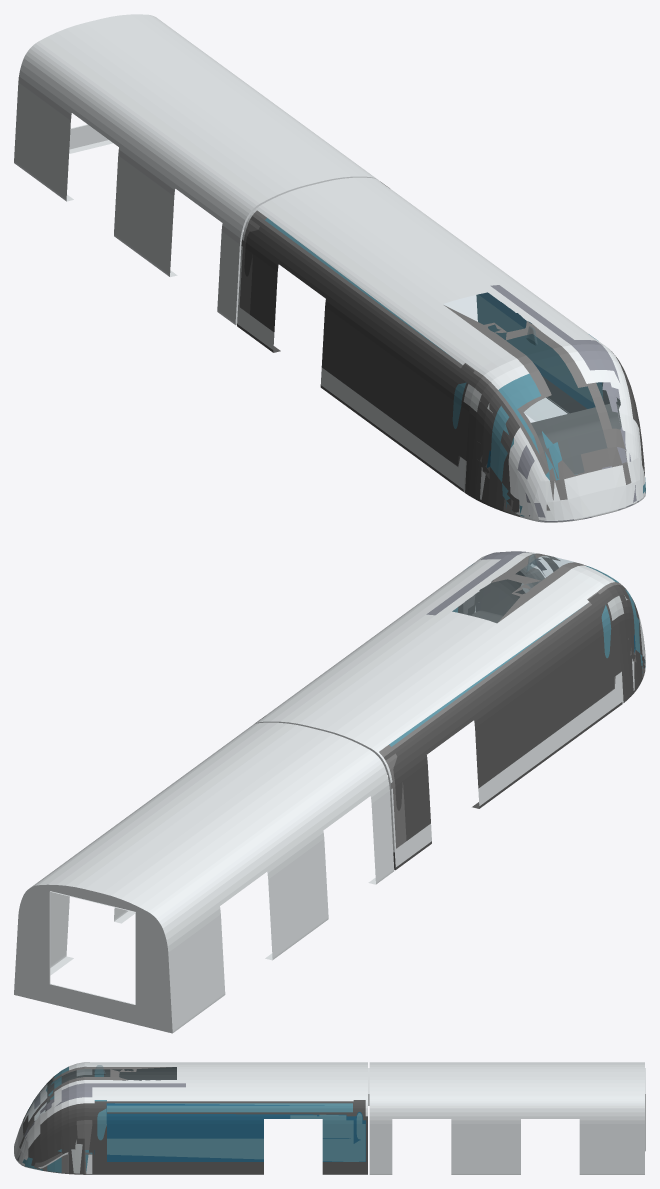
Rendered from shanghai-maglev-body.glb.
3 views of the same model, one above another, from view 1: azimuth 30°, elevation 25°; view 2: azimuth 150°, elevation 25°; view 3: azimuth 270°, elevation 25° (orthographic). The views are drawn at different scales.
Parts seen in each view (by area): view 1: Shanghai maglev / Mesh07 / Color_00, Shanghai maglev / Mesh07 / Color_02, Shanghai maglev / Mesh07 / Transluc, Shanghai maglev / Mesh07 / Color_01, Shanghai maglev / Mesh07 / 0082_Lig, Shanghai maglev / Mesh07 / FrontCol, Shanghai maglev / Mesh07 / _CoolGra, Shanghai maglev / Mesh07 / 0039_Dar; view 2: Shanghai maglev / Mesh07 / Color_00, Shanghai maglev / Mesh07 / Color_02, Shanghai maglev / Mesh07 / FrontCol, Shanghai maglev / Mesh07 / Color_01, Shanghai maglev / Mesh07 / Transluc, Shanghai maglev / Mesh07 / 0082_Lig, Shanghai maglev / Mesh07 / _CoolGra; view 3: Shanghai maglev / Mesh07 / Color_00, Shanghai maglev / Mesh07 / Color_02, Shanghai maglev / Mesh07 / 0082_Lig, Shanghai maglev / Mesh07 / 0039_Dar, Shanghai maglev / Mesh07 / FrontCol, Shanghai maglev / Mesh07 / Color_01, Shanghai maglev / Mesh07 / Transluc, Shanghai maglev / Mesh07 / _CoolGra, Shanghai maglev / Mesh07 / Blinds_R.
Boxes of the visible parts, box(x1,y1,x2,y2) form: Shanghai maglev / Mesh07 / Color_00: box(15, 14, 645, 522); Shanghai maglev / Mesh07 / Color_02: box(237, 181, 644, 514); Shanghai maglev / Mesh07 / Transluc: box(443, 293, 621, 477); Shanghai maglev / Mesh07 / Color_01: box(239, 210, 631, 516); Shanghai maglev / Mesh07 / 0082_Lig: box(265, 218, 645, 516); Shanghai maglev / Mesh07 / FrontCol: box(14, 124, 238, 325); Shanghai maglev / Mesh07 / _CoolGra: box(490, 285, 638, 521); Shanghai maglev / Mesh07 / 0039_Dar: box(478, 292, 602, 467); Shanghai maglev / Mesh07 / Color_00: box(16, 552, 645, 1011); Shanghai maglev / Mesh07 / Color_02: box(256, 571, 644, 870); Shanghai maglev / Mesh07 / FrontCol: box(14, 721, 394, 1033); Shanghai maglev / Mesh07 / Color_01: box(379, 553, 645, 848); Shanghai maglev / Mesh07 / Transluc: box(453, 554, 572, 622); Shanghai maglev / Mesh07 / 0082_Lig: box(389, 564, 645, 746); Shanghai maglev / Mesh07 / _CoolGra: box(426, 551, 645, 662); Shanghai maglev / Mesh07 / Color_00: box(14, 1062, 645, 1174); Shanghai maglev / Mesh07 / Color_02: box(28, 1067, 367, 1174); Shanghai maglev / Mesh07 / 0082_Lig: box(22, 1066, 365, 1172); Shanghai maglev / Mesh07 / 0039_Dar: box(94, 1103, 365, 1161); Shanghai maglev / Mesh07 / FrontCol: box(368, 1068, 645, 1174); Shanghai maglev / Mesh07 / Color_01: box(19, 1066, 367, 1174); Shanghai maglev / Mesh07 / Transluc: box(23, 1065, 176, 1121); Shanghai maglev / Mesh07 / _CoolGra: box(15, 1083, 185, 1162); Shanghai maglev / Mesh07 / Blinds_R: box(71, 1069, 92, 1173).
Size of the model in its own units: 6.2 by 5.15 by 34.42.
